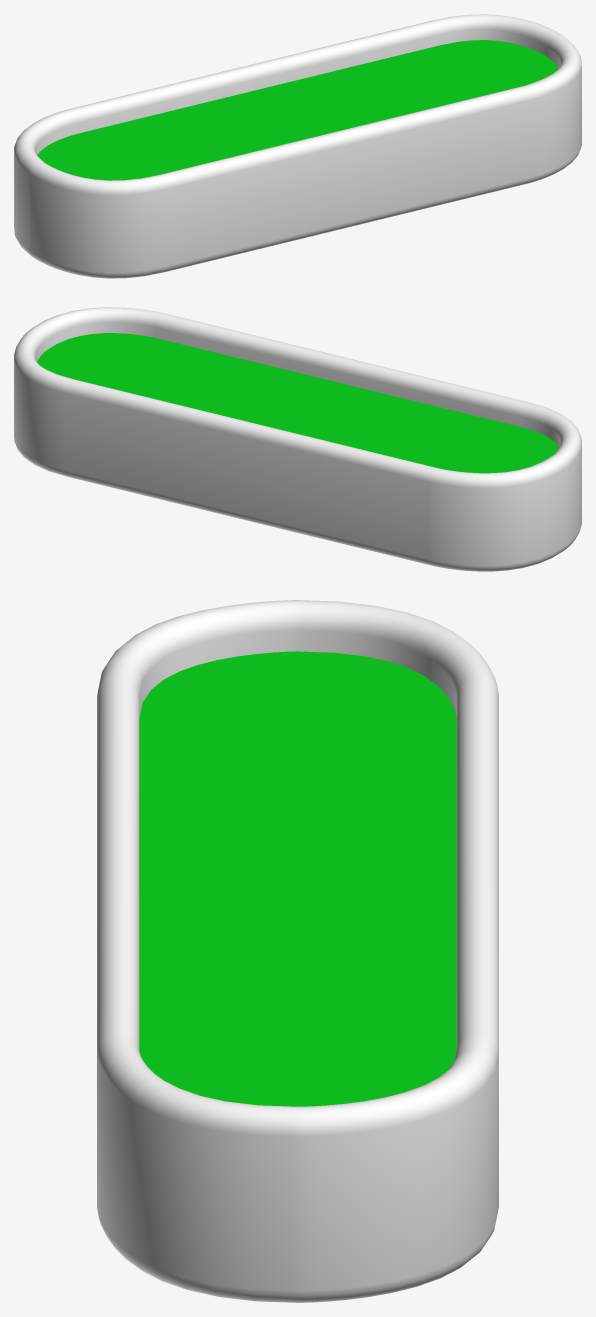
Rendered from Paddle-8.dae.
The picture shows the model from 3 angles, top to bottom: view 1: azimuth 30°, elevation 25°; view 2: azimuth 150°, elevation 25°; view 3: azimuth 270°, elevation 25°; orthographic projection. The views are drawn at different scales.
Parts seen in each view (by area): view 1: Paddle; view 2: Paddle; view 3: Paddle.
Part boxes in pixels (x1,y1,x2,y2): Paddle: [14, 14, 581, 278]; Paddle: [14, 307, 581, 571]; Paddle: [97, 600, 498, 1302].
Size of the model in its own units: 0.303 by 0.0519 by 0.0982.
